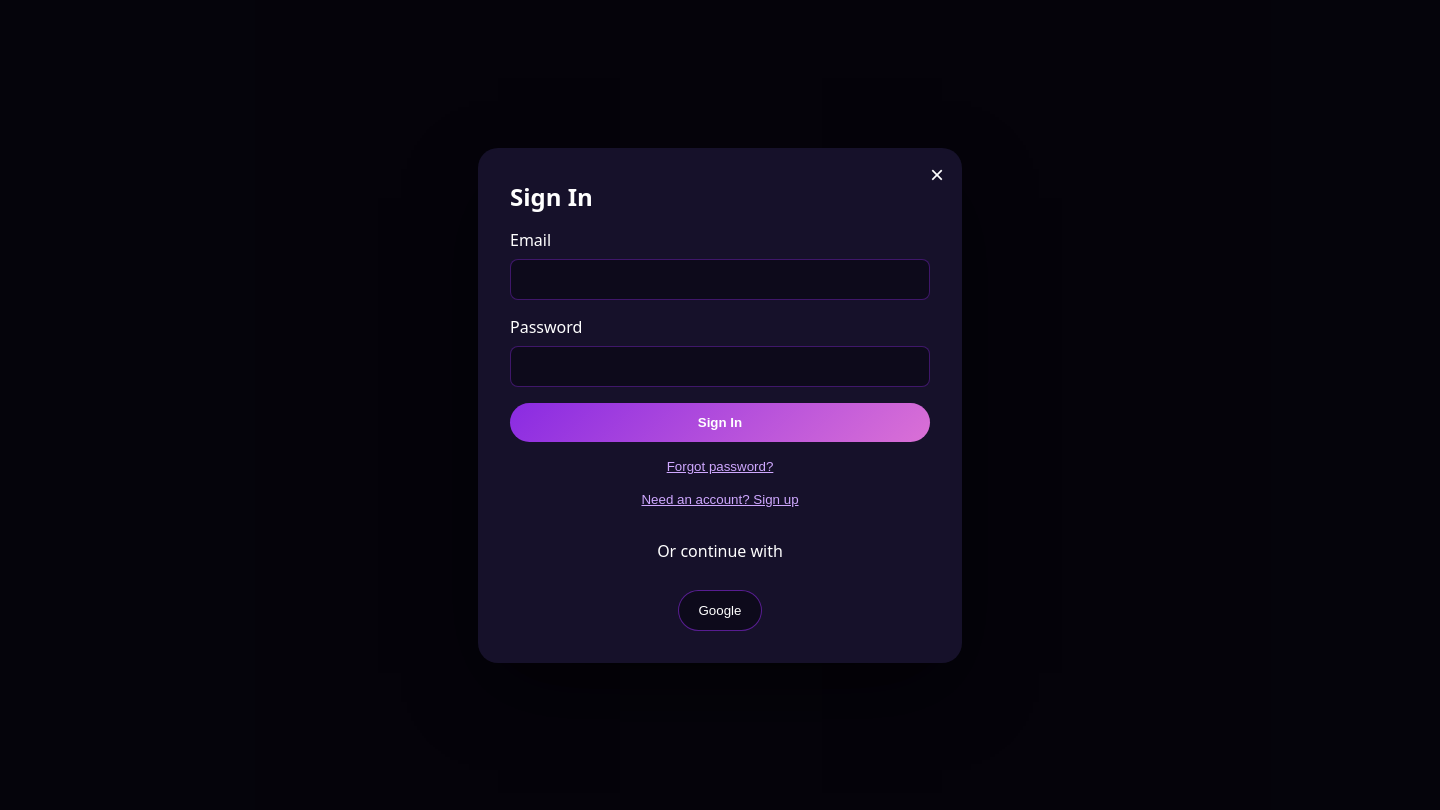
Test: AuthModal (unit) › switches to register mode and clears error
Click the button "Need an account? Sign up": (720, 499) [636,490,805,508]
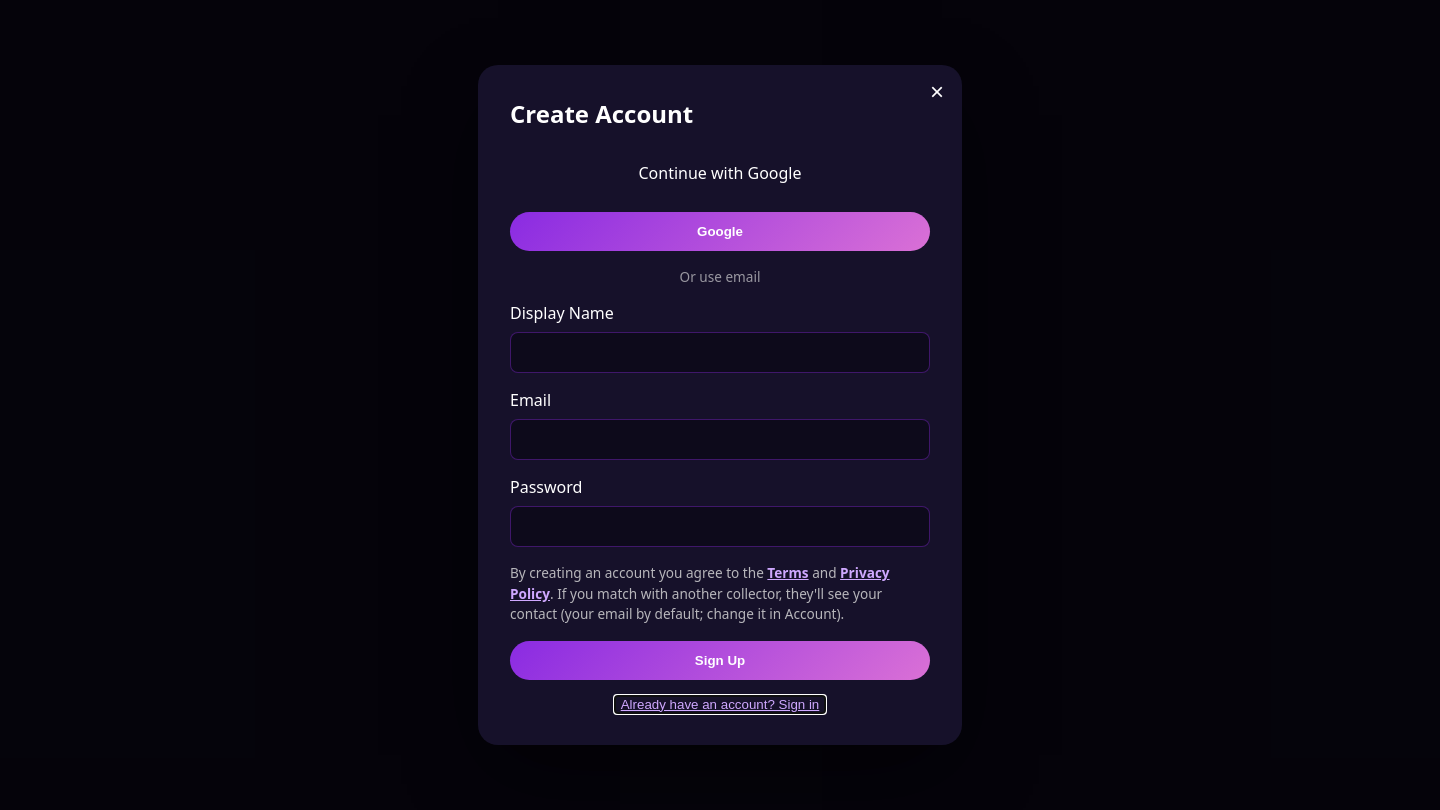
Check: the heading "Create Account" is shown, box [510,97,693,130]
Check: the field labelled "Display Name" is shown, box [510,332,930,373]
